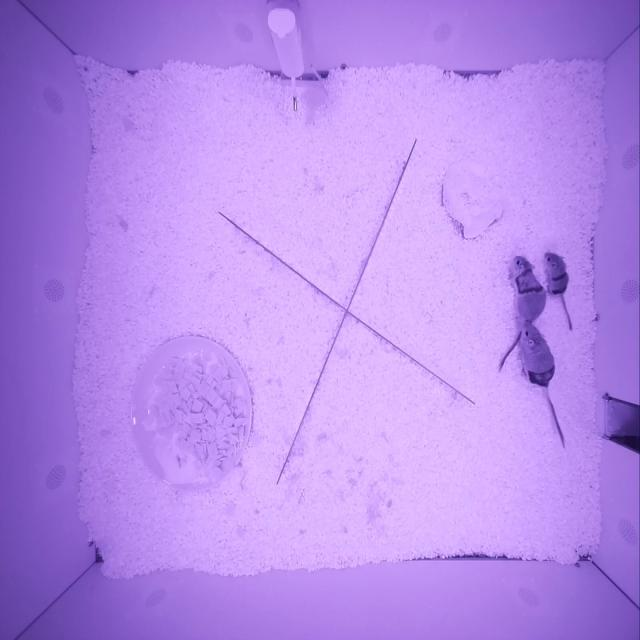adult_back: (521, 323, 556, 387)
adult_front: (514, 256, 546, 324)
pup_h_stripe: (544, 252, 569, 299)
